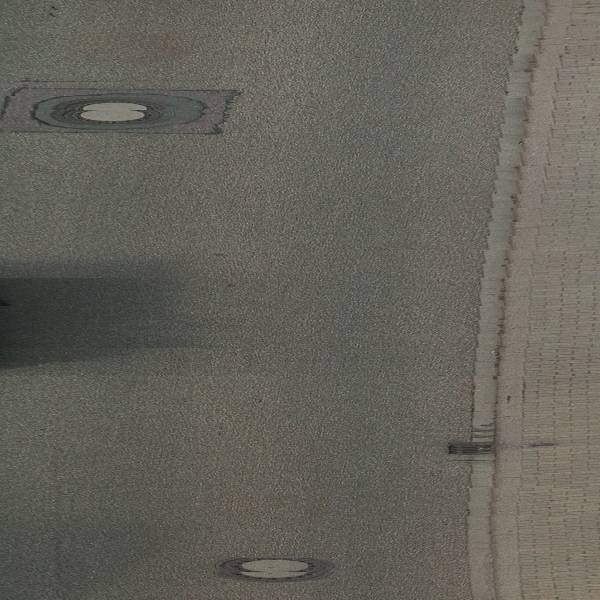road_damage: (1, 80, 259, 142)
